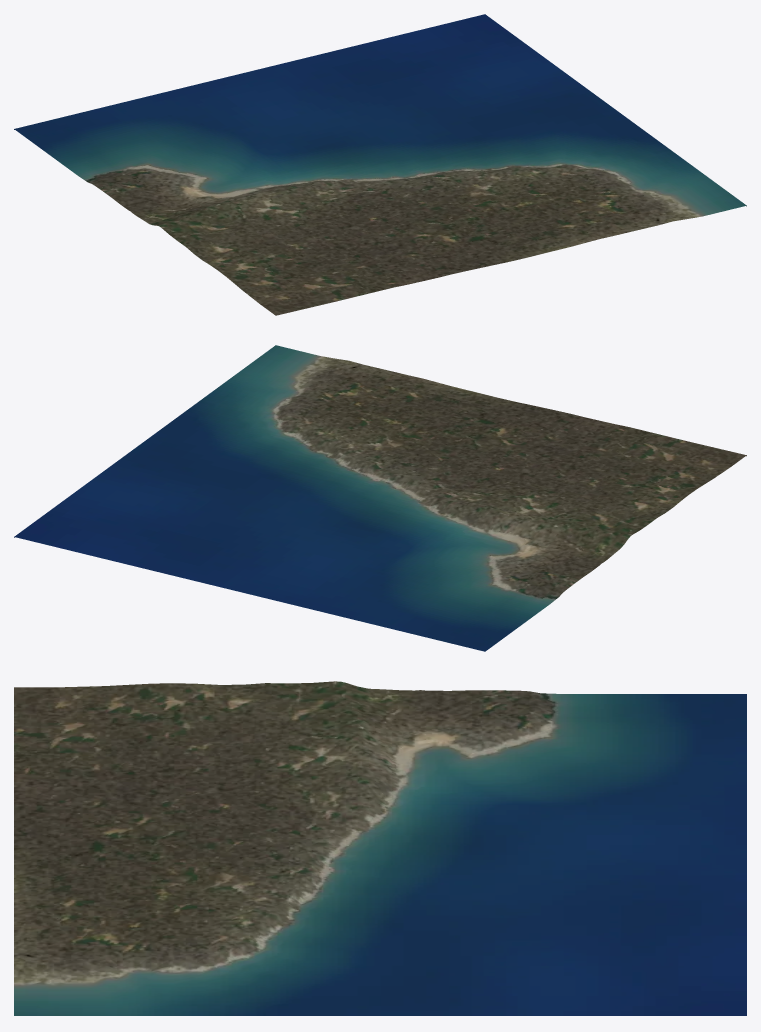
3 views of the same model, one above another, from view 1: azimuth 30°, elevation 25°; view 2: azimuth 150°, elevation 25°; view 3: azimuth 270°, elevation 25° (orthographic). The views are drawn at different scales.
Bounding box in the file's own units: 500 × 10.41 × 481.
Materials: 1 (1 with a texture image).
